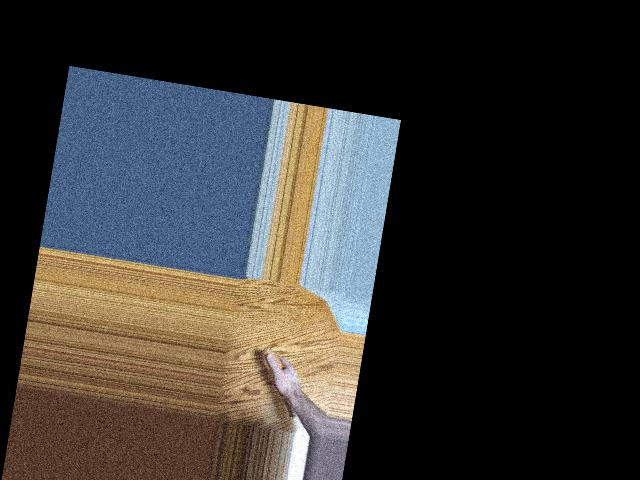sweet_potato: (253, 346, 308, 420)
